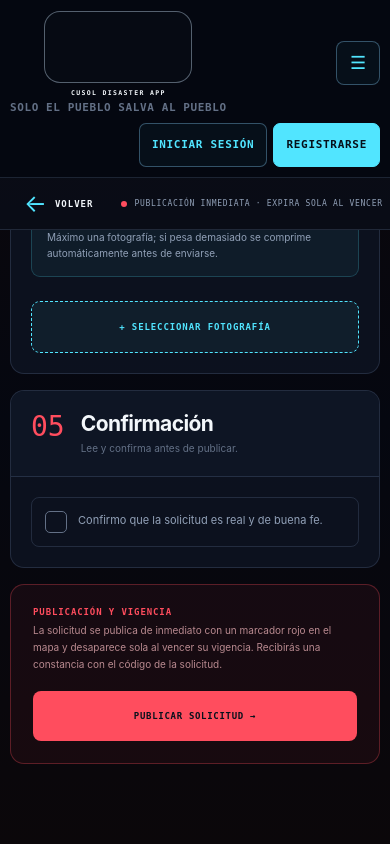
Test case: HelpRequestForm (CHG-125) › señala los campos pendientes al intentar publicar vacío
This screenshot has width=390, height=844.
(page scrolled)
Click the button with aria-label "Publicar solicitud de ayuda". click: (195, 716)
box: [33,691,357,741]
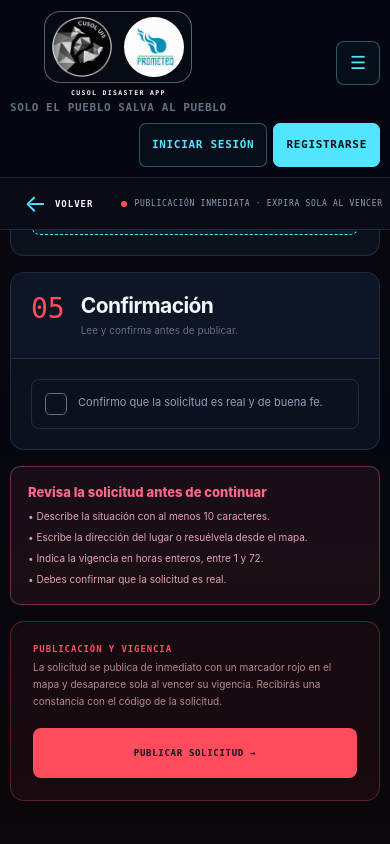
Result: the text "Revisa la solicitud antes de continuar" is shown at [28,484,267,500]
Result: the text "• Escribe la dirección del lugar o resuélvela desde el mapa." is shown at [28,531,308,543]
